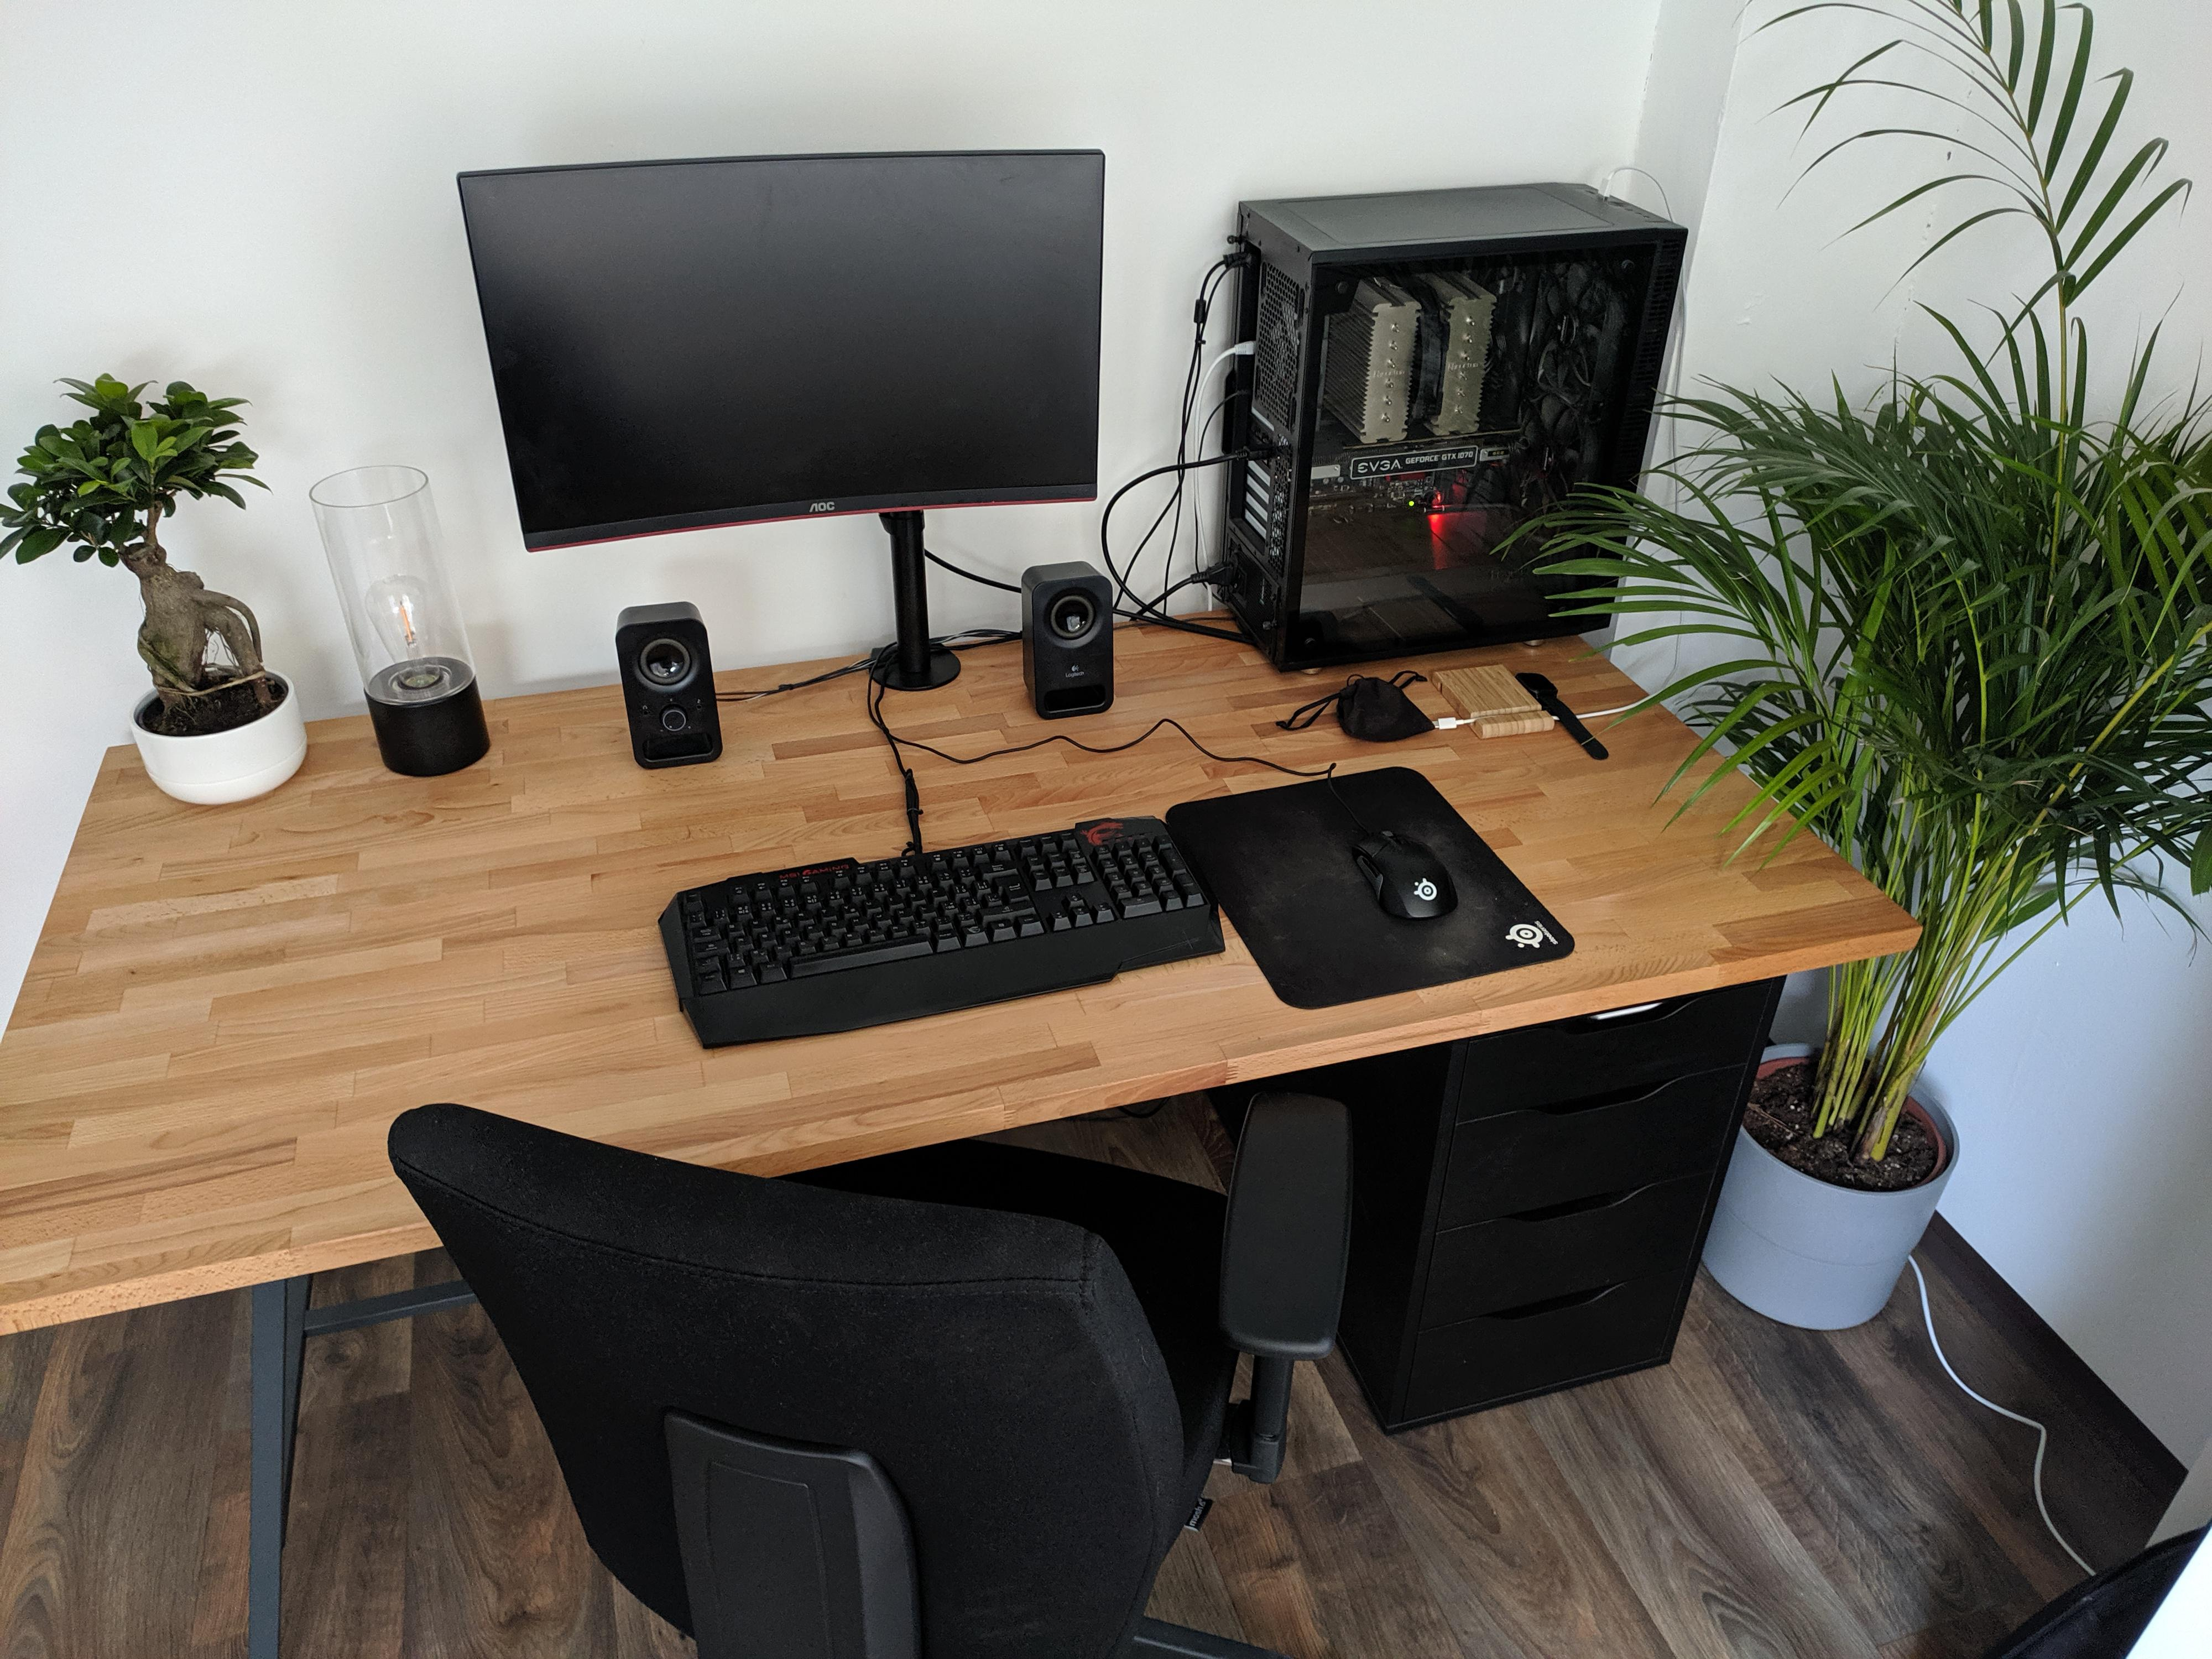Chair (Generic): (470, 1105, 1360, 1649)
Decoration (Generic): (284, 451, 503, 770)
Decoration (Plant): (1712, 338, 2083, 1366), (5, 347, 324, 816)
Decoration (Watch): (1522, 666, 1588, 727)
Desk (Generic): (0, 640, 1904, 1044)
Desktop (Generic): (1244, 214, 1622, 669)
External Speakers (Generic): (613, 612, 733, 788), (1010, 537, 1127, 718)
Keyboard (Gaming): (643, 819, 1247, 1021)
Monitor (Landscape): (441, 159, 1104, 516)
Monitor Arm: (860, 504, 974, 706)
Mouse (Gaming): (1359, 823, 1482, 950)
Mousepad (Generic): (1167, 762, 1576, 1021)
Storage Drawer: (1433, 976, 1709, 1378)
